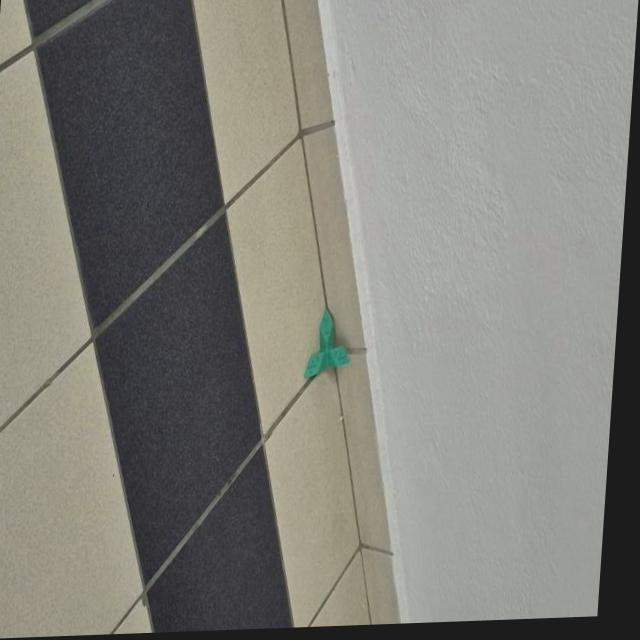eje: (302, 306, 354, 379)
